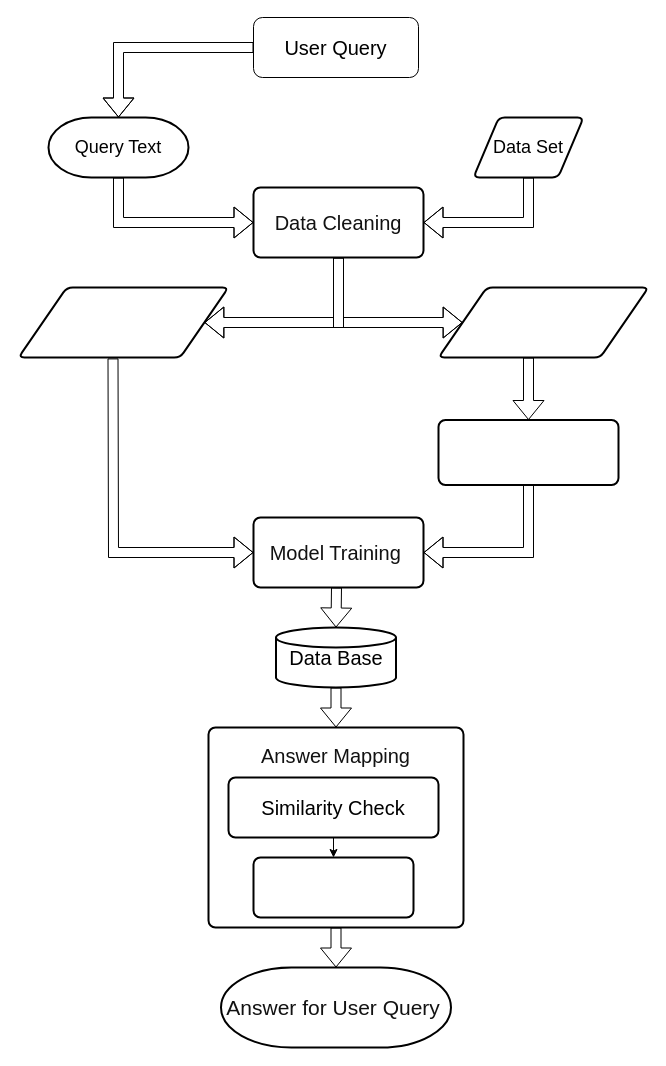
This 666x1066 diagram has some shape labels left out. Each missing label, with the centre of its shape:
"Answer Ranking" goes at [333,887].
"Data Frame Creation" goes at [528,452].
"Pre Processed Data Set" goes at [543,322].
"Pre-Processed Query" goes at [123,322].
